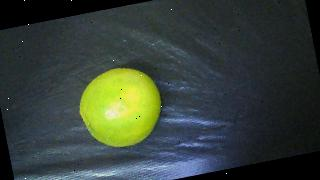LOCAL: (73, 61, 169, 154)
